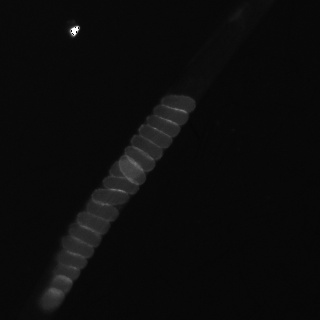embryo: (115, 155, 145, 184), (130, 134, 163, 160), (68, 222, 102, 247), (144, 114, 180, 137), (138, 124, 172, 148), (124, 146, 155, 171), (152, 104, 188, 125), (61, 235, 93, 258), (76, 211, 109, 233), (90, 188, 129, 205), (85, 201, 118, 221), (39, 287, 65, 312), (102, 175, 138, 193), (161, 95, 195, 113), (57, 250, 87, 268), (53, 263, 80, 282), (50, 275, 73, 296)
